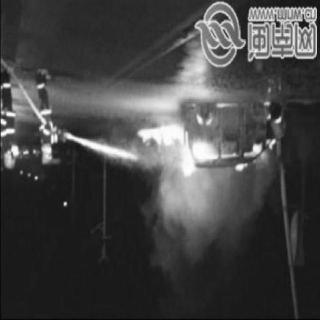Fire: (135, 126, 219, 186), (233, 162, 247, 178), (274, 113, 286, 127)
Smoke: (173, 184, 233, 242)
other: (37, 146, 53, 170), (3, 152, 15, 174), (57, 124, 71, 142)
